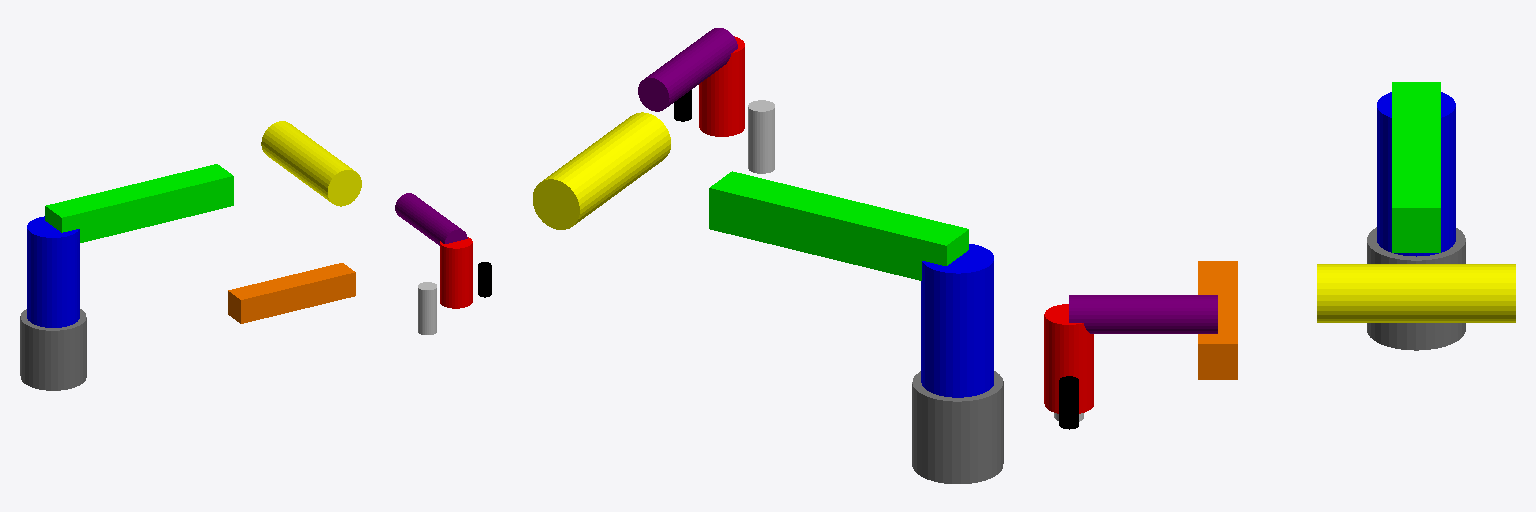
URDF robot description (staubli_tx60):
<?xml version="1.0"?>
<robot name="staubli_tx60">

  <!-- 
    VERSION AVEC MESHES STL
    
    IMPORTANT : Dé-commenter les sections mesh et commenter les primitives géométriques
    pour utiliser les STL. Cette version est un template à adapter selon vos fichiers STL.
    
    Pour éviter les bugs :
    1. S'assurer que tous les fichiers STL existent dans meshes/
    2. Vérifier les chemins package://mon_projet_jumeau/meshes/...
    3. Valider avec : rosrun urdf_parser check_urdf robot_model.urdf
  -->

  <link name="world"/>
  
  <link name="base_link">
    <visual>
      <origin xyz="0 0 0.1" rpy="0 0 0"/>
      <geometry>
        <!-- Option 1 : Primitive (défaut, robuste) -->
        <cylinder radius="0.1" length="0.2"/>
        <!-- Option 2 : Mesh STL (décommenter si fichier existe)
        <mesh filename="package://mon_projet_jumeau/meshes/base_link.stl" scale="1 1 1"/>
        -->
      </geometry>
      <material name="gray">
        <color rgba="0.5 0.5 0.5 1.0"/>
      </material>
    </visual>
    <collision>
      <origin xyz="0 0 0.1" rpy="0 0 0"/>
      <geometry>
        <cylinder radius="0.1" length="0.2"/>
        <!-- <mesh filename="package://mon_projet_jumeau/meshes/base_link.stl"/> -->
      </geometry>
    </collision>
    <inertial>
      <mass value="10.0"/>
      <inertia ixx="0.1" ixy="0" ixz="0" iyy="0.1" iyz="0" izz="0.1"/>
    </inertial>
  </link>

  <link name="link1">
    <visual>
      <origin xyz="0 0 0.15" rpy="0 0 0"/>
      <geometry>
        <cylinder radius="0.08" length="0.3"/>
        <!-- <mesh filename="package://mon_projet_jumeau/meshes/link1.stl" scale="1 1 1"/> -->
      </geometry>
      <material name="blue">
        <color rgba="0.0 0.0 1.0 1.0"/>
      </material>
    </visual>
    <collision>
      <origin xyz="0 0 0.15" rpy="0 0 0"/>
      <geometry>
        <cylinder radius="0.08" length="0.3"/>
        <!-- <mesh filename="package://mon_projet_jumeau/meshes/link1.stl"/> -->
      </geometry>
    </collision>
    <inertial>
      <mass value="5.0"/>
      <inertia ixx="0.05" ixy="0" ixz="0" iyy="0.05" iyz="0" izz="0.05"/>
    </inertial>
  </link>

  <link name="link2">
    <visual>
      <origin xyz="0.3 0 0" rpy="0 0 0"/>
      <geometry>
        <box size="0.6 0.1 0.1"/>
        <!-- <mesh filename="package://mon_projet_jumeau/meshes/link2.stl" scale="1 1 1"/> -->
      </geometry>
      <material name="green">
        <color rgba="0.0 1.0 0.0 1.0"/>
      </material>
    </visual>
    <collision>
      <origin xyz="0.3 0 0" rpy="0 0 0"/>
      <geometry>
        <box size="0.6 0.1 0.1"/>
        <!-- <mesh filename="package://mon_projet_jumeau/meshes/link2.stl"/> -->
      </geometry>
    </collision>
    <inertial>
      <mass value="4.0"/>
      <inertia ixx="0.04" ixy="0" ixz="0" iyy="0.04" iyz="0" izz="0.04"/>
    </inertial>
  </link>

  <link name="link3">
    <visual>
      <origin xyz="0.3 0 0" rpy="0 0 0"/>
      <geometry>
        <cylinder radius="0.06" length="0.4"/>
        <!-- <mesh filename="package://mon_projet_jumeau/meshes/link3.stl" scale="1 1 1"/> -->
      </geometry>
      <material name="yellow">
        <color rgba="1.0 1.0 0.0 1.0"/>
      </material>
    </visual>
    <collision>
      <origin xyz="0.3 0 0" rpy="0 0 0"/>
      <geometry>
        <cylinder radius="0.06" length="0.4"/>
        <!-- <mesh filename="package://mon_projet_jumeau/meshes/link3.stl"/> -->
      </geometry>
    </collision>
    <inertial>
      <mass value="3.0"/>
      <inertia ixx="0.03" ixy="0" ixz="0" iyy="0.03" iyz="0" izz="0.03"/>
    </inertial>
  </link>

  <link name="link4">
    <visual>
      <origin xyz="0 0 0.2" rpy="0 0 0"/>
      <geometry>
        <box size="0.4 0.08 0.08"/>
        <!-- <mesh filename="package://mon_projet_jumeau/meshes/link4.stl" scale="1 1 1"/> -->
      </geometry>
      <material name="orange">
        <color rgba="1.0 0.5 0.0 1.0"/>
      </material>
    </visual>
    <collision>
      <origin xyz="0 0 0.2" rpy="0 0 0"/>
      <geometry>
        <box size="0.4 0.08 0.08"/>
        <!-- <mesh filename="package://mon_projet_jumeau/meshes/link4.stl"/> -->
      </geometry>
    </collision>
    <inertial>
      <mass value="2.0"/>
      <inertia ixx="0.02" ixy="0" ixz="0" iyy="0.02" iyz="0" izz="0.02"/>
    </inertial>
  </link>

  <link name="link5">
    <visual>
      <origin xyz="0 0 0.15" rpy="0 0 0"/>
      <geometry>
        <cylinder radius="0.04" length="0.3"/>
        <!-- <mesh filename="package://mon_projet_jumeau/meshes/link5.stl" scale="1 1 1"/> -->
      </geometry>
      <material name="purple">
        <color rgba="0.5 0.0 0.5 1.0"/>
      </material>
    </visual>
    <collision>
      <origin xyz="0 0 0.15" rpy="0 0 0"/>
      <geometry>
        <cylinder radius="0.04" length="0.3"/>
        <!-- <mesh filename="package://mon_projet_jumeau/meshes/link5.stl"/> -->
      </geometry>
    </collision>
    <inertial>
      <mass value="1.5"/>
      <inertia ixx="0.015" ixy="0" ixz="0" iyy="0.015" iyz="0" izz="0.015"/>
    </inertial>
  </link>

  <link name="link6">
    <visual>
      <origin xyz="0 0 0.1" rpy="0 0 0"/>
      <geometry>
        <cylinder radius="0.05" length="0.2"/>
        <!-- <mesh filename="package://mon_projet_jumeau/meshes/link6.stl" scale="1 1 1"/> -->
      </geometry>
      <material name="red">
        <color rgba="1.0 0.0 0.0 1.0"/>
      </material>
    </visual>
    <collision>
      <origin xyz="0 0 0.1" rpy="0 0 0"/>
      <geometry>
        <cylinder radius="0.05" length="0.2"/>
        <!-- <mesh filename="package://mon_projet_jumeau/meshes/link6.stl"/> -->
      </geometry>
    </collision>
    <inertial>
      <mass value="1.0"/>
      <inertia ixx="0.01" ixy="0" ixz="0" iyy="0.01" iyz="0" izz="0.01"/>
    </inertial>
  </link>

  <link name="pyrometer_link">
    <visual>
      <origin xyz="0 0 0.05" rpy="0 0 0"/>
      <geometry>
        <cylinder radius="0.02" length="0.1"/>
        <!-- <mesh filename="package://mon_projet_jumeau/meshes/pyrometer.stl" scale="1 1 1"/> -->
      </geometry>
      <material name="black">
        <color rgba="0.0 0.0 0.0 1.0"/>
      </material>
    </visual>
    <collision>
      <origin xyz="0 0 0.05" rpy="0 0 0"/>
      <geometry>
        <cylinder radius="0.02" length="0.1"/>
        <!-- <mesh filename="package://mon_projet_jumeau/meshes/pyrometer.stl"/> -->
      </geometry>
    </collision>
    <inertial>
      <mass value="0.1"/>
      <inertia ixx="0.001" ixy="0" ixz="0" iyy="0.001" iyz="0" izz="0.001"/>
    </inertial>
  </link>

  <link name="buse_link">
    <visual>
      <origin xyz="0 0 0.1" rpy="0 0 0"/>
      <geometry>
        <cylinder radius="0.03" length="0.15"/>
        <!-- <mesh filename="package://mon_projet_jumeau/meshes/buse.stl" scale="1 1 1"/> -->
      </geometry>
      <material name="silver">
        <color rgba="0.8 0.8 0.8 1.0"/>
      </material>
    </visual>
    <collision>
      <origin xyz="0 0 0.1" rpy="0 0 0"/>
      <geometry>
        <cylinder radius="0.03" length="0.15"/>
        <!-- <mesh filename="package://mon_projet_jumeau/meshes/buse.stl"/> -->
      </geometry>
    </collision>
    <inertial>
      <mass value="0.2"/>
      <inertia ixx="0.002" ixy="0" ixz="0" iyy="0.002" iyz="0" izz="0.002"/>
    </inertial>
  </link>

  <!-- Jointures du robot -->
  <joint name="base_to_world" type="fixed">
    <parent link="world"/>
    <child link="base_link"/>
    <origin xyz="0 0 0" rpy="0 0 0"/>
  </joint>

  <joint name="joint1" type="revolute">
    <parent link="base_link"/>
    <child link="link1"/>
    <origin xyz="0 0 0.2" rpy="0 0 0"/>
    <axis xyz="0 0 1"/>
    <limit lower="-3.14159" upper="3.14159" effort="100" velocity="1.0"/>
  </joint>

  <joint name="joint2" type="revolute">
    <parent link="link1"/>
    <child link="link2"/>
    <origin xyz="0 0 0.3" rpy="1.5708 0 0"/>
    <axis xyz="0 0 1"/>
    <limit lower="-2.0944" upper="2.0944" effort="100" velocity="1.0"/>
  </joint>

  <joint name="joint3" type="revolute">
    <parent link="link2"/>
    <child link="link3"/>
    <origin xyz="0.6 0 0" rpy="0 0 0"/>
    <axis xyz="0 0 1"/>
    <limit lower="-2.618" upper="2.618" effort="100" velocity="1.0"/>
  </joint>

  <joint name="joint4" type="revolute">
    <parent link="link3"/>
    <child link="link4"/>
    <origin xyz="0 0 0.4" rpy="1.5708 0 0"/>
    <axis xyz="0 0 1"/>
    <limit lower="-3.14159" upper="3.14159" effort="100" velocity="1.0"/>
  </joint>

  <joint name="joint5" type="revolute">
    <parent link="link4"/>
    <child link="link5"/>
    <origin xyz="0.4 0 0" rpy="-1.5708 0 0"/>
    <axis xyz="0 0 1"/>
    <limit lower="-2.0944" upper="2.0944" effort="100" velocity="1.0"/>
  </joint>

  <joint name="joint6" type="revolute">
    <parent link="link5"/>
    <child link="link6"/>
    <origin xyz="0 0 0.3" rpy="1.5708 0 0"/>
    <axis xyz="0 0 1"/>
    <limit lower="-3.14159" upper="3.14159" effort="100" velocity="1.0"/>
  </joint>

  <!-- Capteurs attachés à l'effecteur final -->
  <joint name="pyrometer_joint" type="fixed">
    <parent link="link6"/>
    <child link="pyrometer_link"/>
    <origin xyz="0.1 0 0.1" rpy="0 0 0"/>
  </joint>

  <joint name="buse_joint" type="fixed">
    <parent link="link6"/>
    <child link="buse_link"/>
    <origin xyz="-0.1 0 0.1" rpy="0 0 0"/>
  </joint>

</robot>

--- Render facts (derived) ---
3 views of the same robot in one strip: view 1: azimuth 30°, elevation 25°; view 2: azimuth 150°, elevation 25°; view 3: azimuth 270°, elevation 25° (orthographic).
Robot: staubli_tx60 — 10 links, 9 joints (6 revolute, 3 fixed); root link world; default pose: all joints at 0.
Visible links, largest first — view 1: link2, link1, link4, base_link, link3, link6, link5, buse_link; view 2: link2, link1, base_link, link3, link5, link6, buse_link; view 3: link3, link2, link5, link1, link6, link4, base_link, pyrometer_link.
Boxes of the visible links, bbox=[...] form: link2: bbox=[45, 164, 233, 242]; link1: bbox=[27, 216, 79, 327]; link4: bbox=[228, 263, 355, 323]; base_link: bbox=[20, 309, 86, 390]; link3: bbox=[261, 121, 361, 206]; link6: bbox=[440, 237, 472, 308]; link5: bbox=[395, 193, 467, 245]; buse_link: bbox=[418, 282, 436, 334]; link2: bbox=[709, 171, 968, 280]; link1: bbox=[921, 244, 993, 397]; base_link: bbox=[912, 371, 1003, 483]; link3: bbox=[533, 112, 670, 229]; link5: bbox=[638, 28, 737, 111]; link6: bbox=[699, 36, 744, 136]; buse_link: bbox=[748, 100, 774, 173]; link3: bbox=[1317, 264, 1515, 322]; link2: bbox=[1392, 82, 1440, 252]; link5: bbox=[1069, 295, 1217, 333]; link1: bbox=[1377, 92, 1455, 256]; link6: bbox=[1044, 304, 1093, 413]; link4: bbox=[1198, 261, 1237, 379]; base_link: bbox=[1367, 227, 1465, 350]; pyrometer_link: bbox=[1059, 376, 1078, 429].
Size in the robot's own frame: 1.22 by 0.95 by 0.56 metres.
Geometry: primitives only (box / cylinder / sphere), no mesh files.
